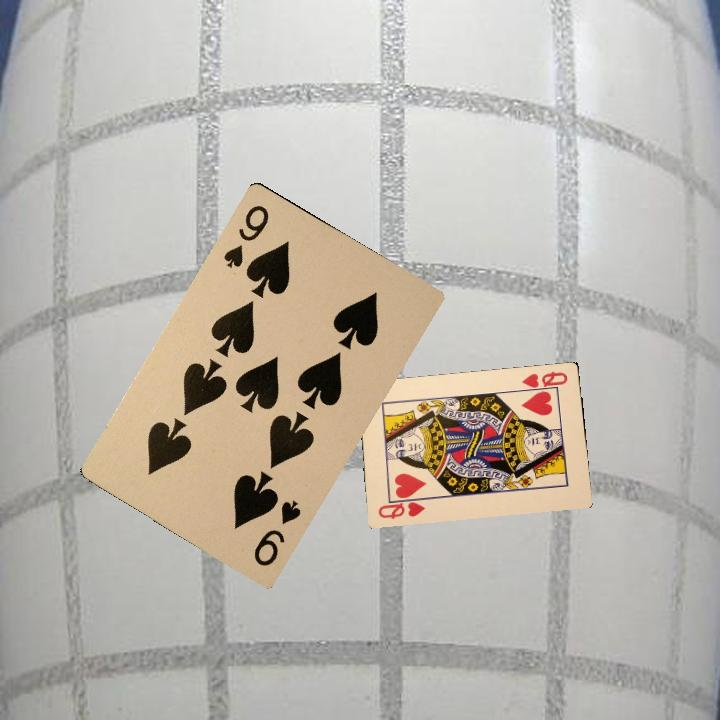9s: (249, 496, 304, 569), (219, 200, 272, 271)
Qh: (374, 494, 428, 522), (518, 367, 570, 394)
